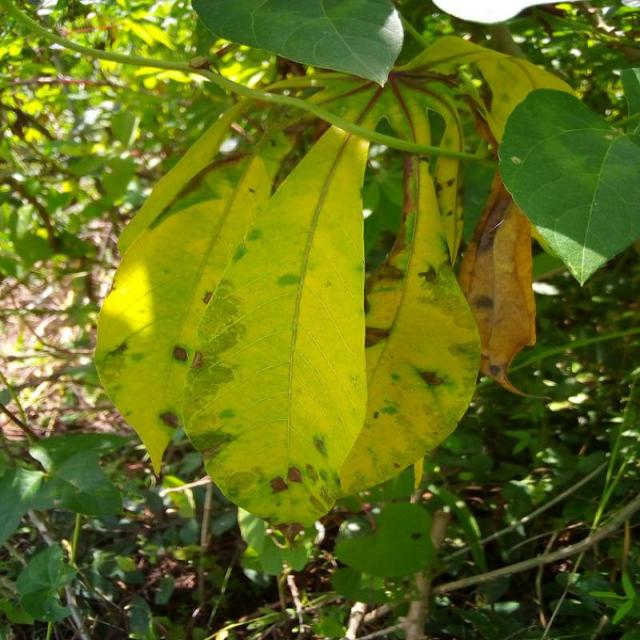cassava leaf: (180, 119, 370, 528), (93, 138, 278, 476), (338, 155, 482, 496), (496, 85, 638, 287), (190, 0, 405, 89)
